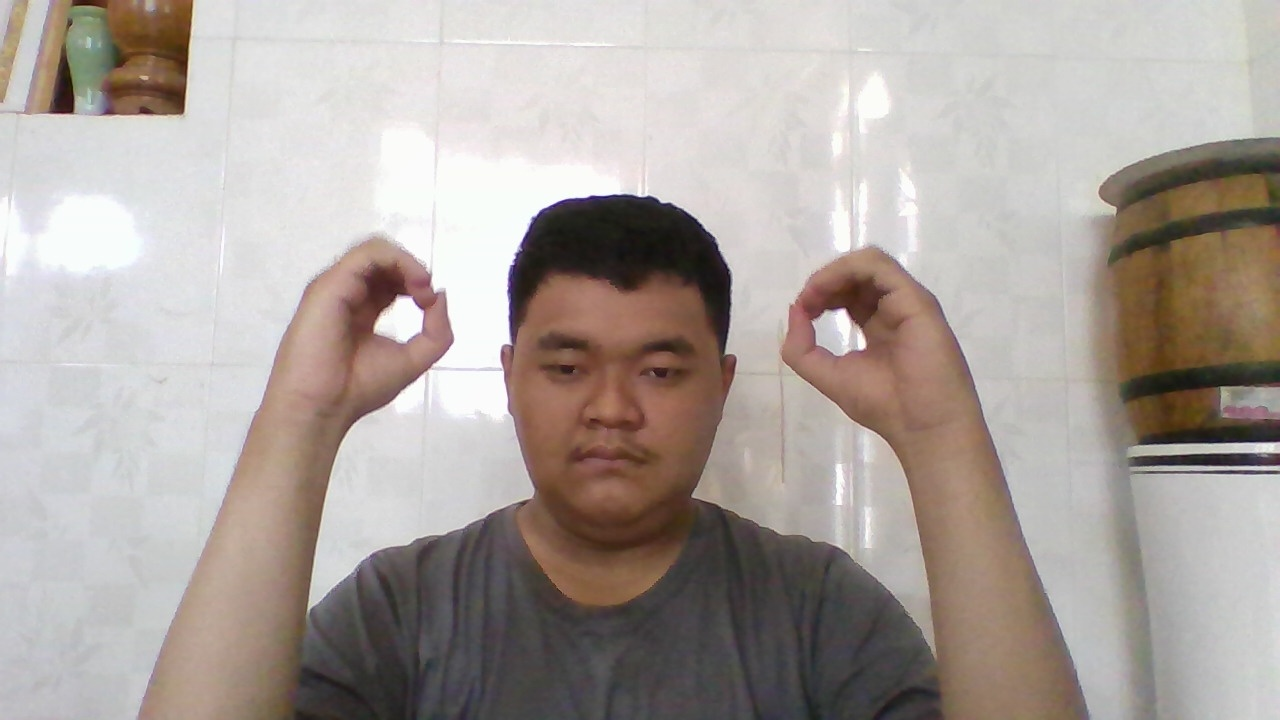O: (777, 246, 947, 440), (306, 231, 459, 420)
